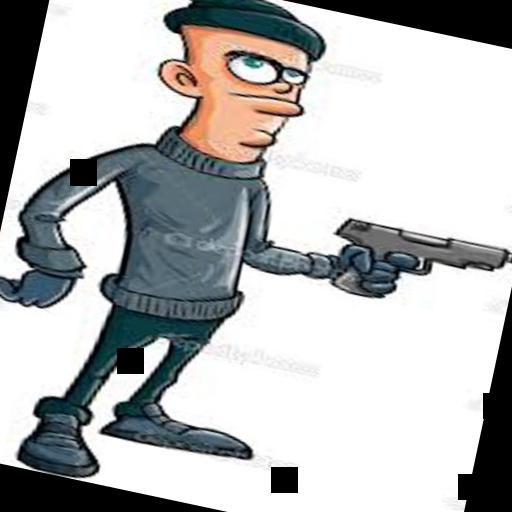Handgun: (323, 211, 512, 324)
